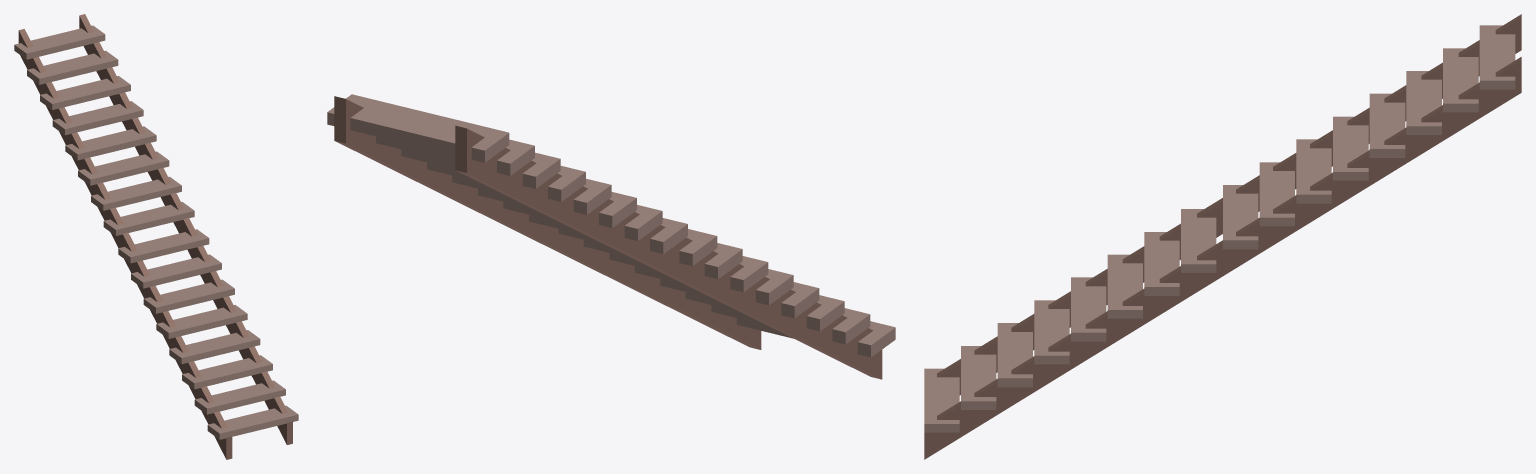
The model's file is prop_080.fbx.
The picture shows the model from 3 angles, left to right: view 1: azimuth 30°, elevation 25°; view 2: azimuth 150°, elevation 25°; view 3: azimuth 270°, elevation 25°; orthographic projection. The views are drawn at different scales.
Parts seen in each view (by area): view 1: prop.080; view 2: prop.080; view 3: prop.080.
Part boxes in pixels (x1,y1,x2,y2): prop.080: (14, 14, 298, 459); prop.080: (327, 94, 895, 379); prop.080: (924, 14, 1521, 459).
Bounding box in the file's own units: 191 × 643 × 872.
Materials: 1 (1 with a texture image).
